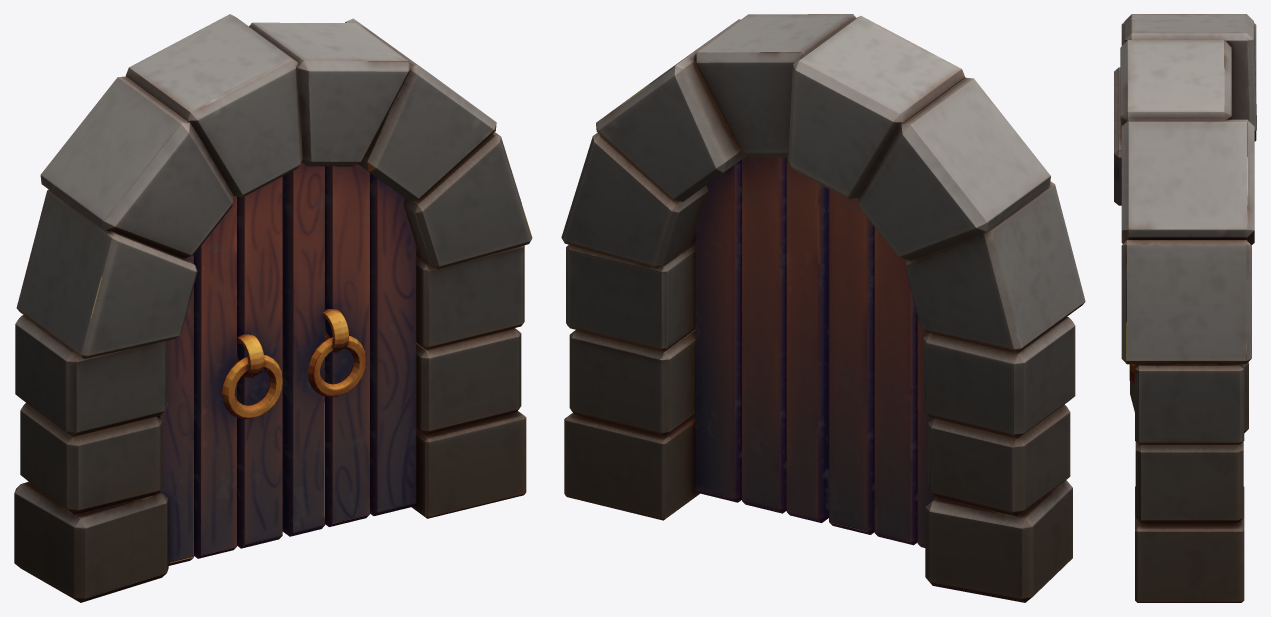
File: DoorArchedStone.dae
3 views of the same model, side by side, from view 1: azimuth 30°, elevation 25°; view 2: azimuth 150°, elevation 25°; view 3: azimuth 270°, elevation 25° (orthographic). The views are drawn at different scales.
Parts seen in each view (by area): view 1: Circle_062; view 2: Circle_062; view 3: Circle_062.
Boxes of the visible parts, left/top/right/bottom form: Circle_062: left=14, top=14, right=532, bottom=602; Circle_062: left=561, top=14, right=1085, bottom=602; Circle_062: left=1114, top=14, right=1256, bottom=602.
Size of the model in its own units: 4.06 by 1.16 by 4.15.
Materials: 1 (1 with a texture image).
